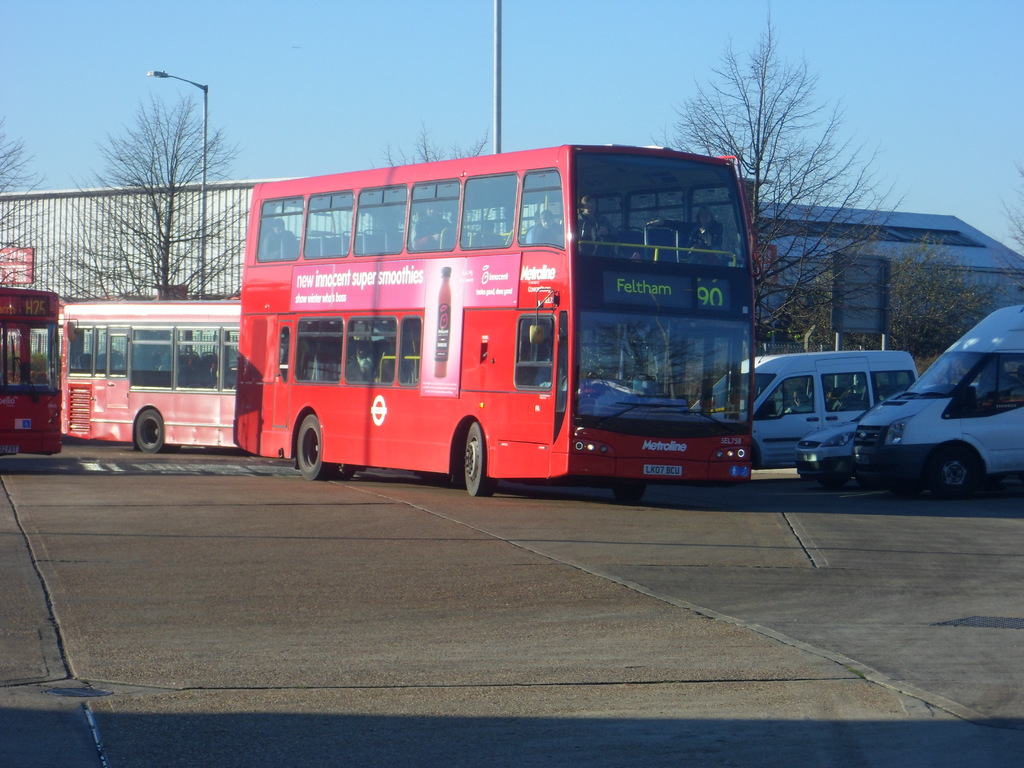Bus: (234, 137, 755, 495), (59, 296, 240, 453), (0, 284, 59, 453)
